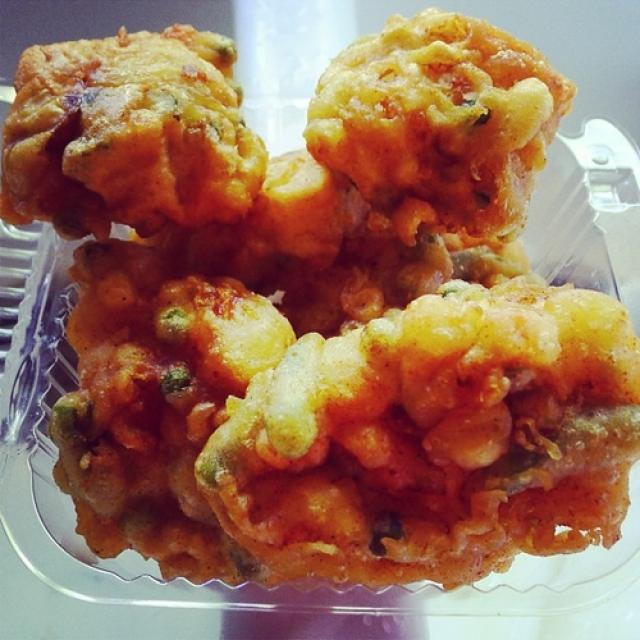炸货点心: (5, 13, 630, 604)
熟制海鲜: (5, 13, 630, 604)
